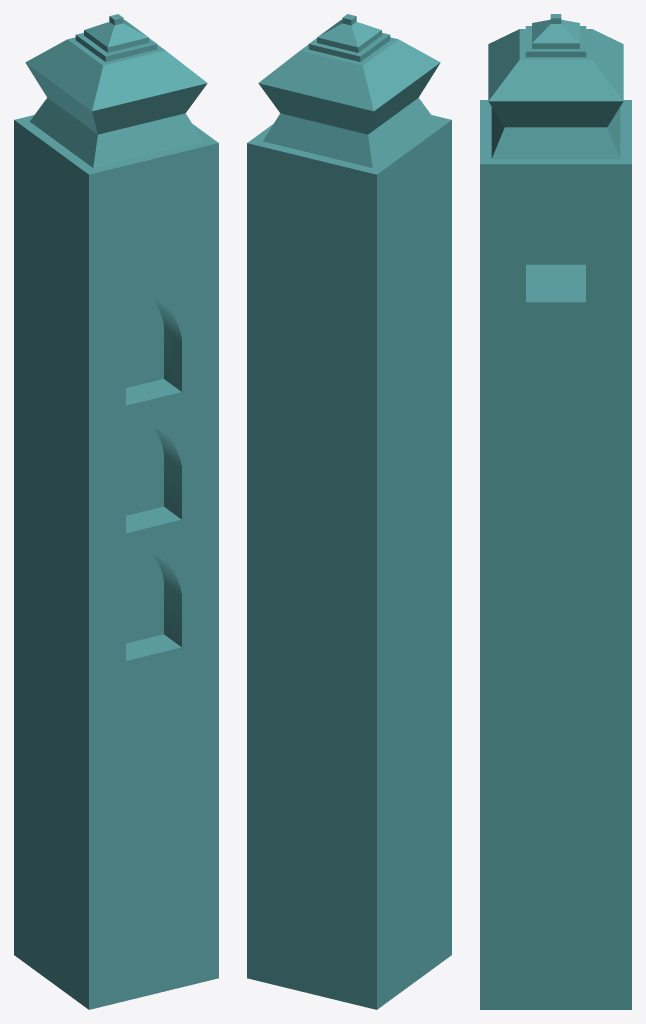
The model's file is Tower Main.fbx.
3 views of the same model, side by side, from view 1: azimuth 30°, elevation 25°; view 2: azimuth 150°, elevation 25°; view 3: azimuth 270°, elevation 25° (orthographic).
Parts seen in each view (by area): view 1: Tower Main; view 2: Tower Main; view 3: Tower Main.
Part boxes in pixels (x1,y1,x2,y2): Tower Main: (14, 14, 218, 1009); Tower Main: (247, 14, 451, 1009); Tower Main: (480, 14, 631, 1009).
Size of the model in its own units: 4 by 27.97 by 4.
